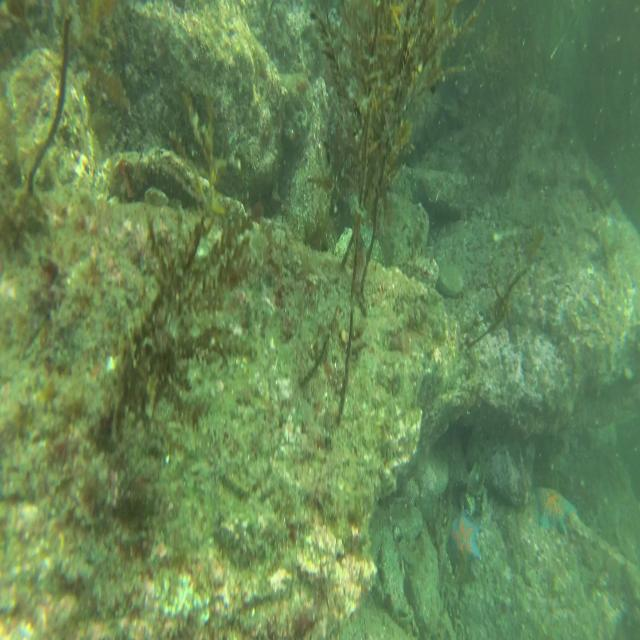starfish: (445, 512, 483, 570), (532, 484, 578, 530)
